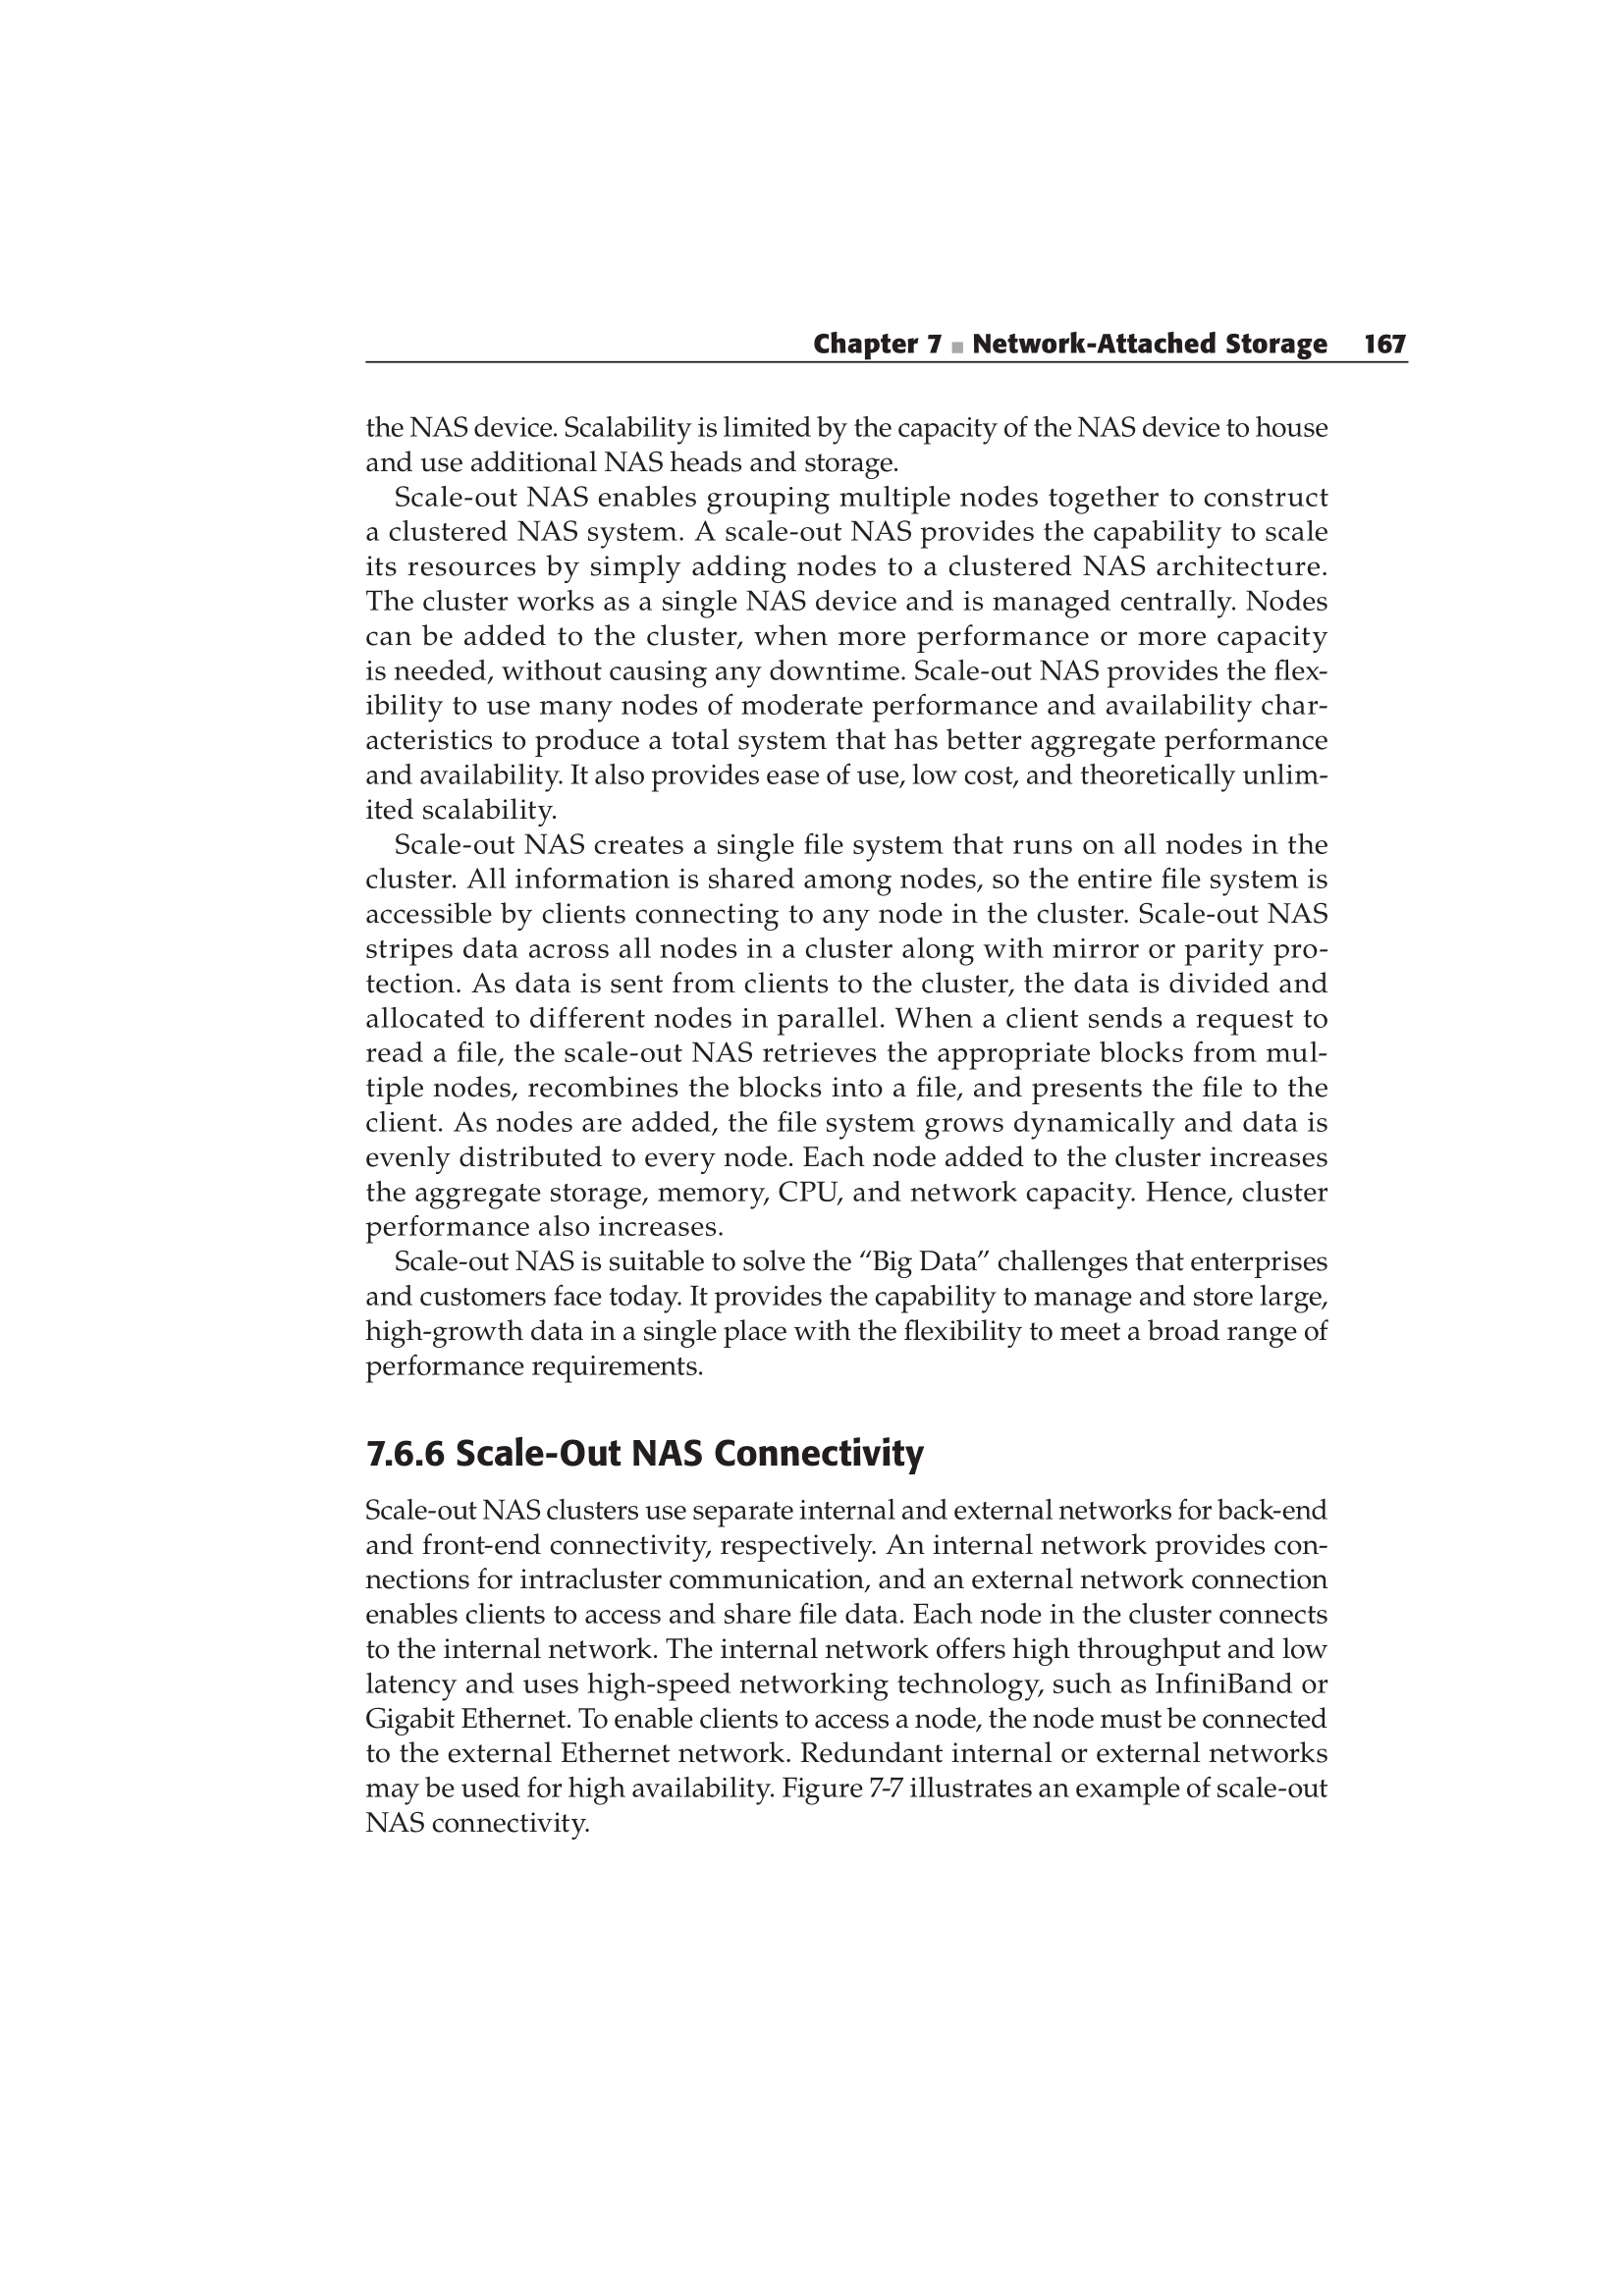Paragraph: (214, 830, 1470, 1248), (202, 486, 1458, 822), (314, 1496, 1337, 1882), (206, 1248, 1463, 1408), (214, 390, 1470, 481), (683, 248, 1491, 372), (323, 1420, 1031, 1487)
